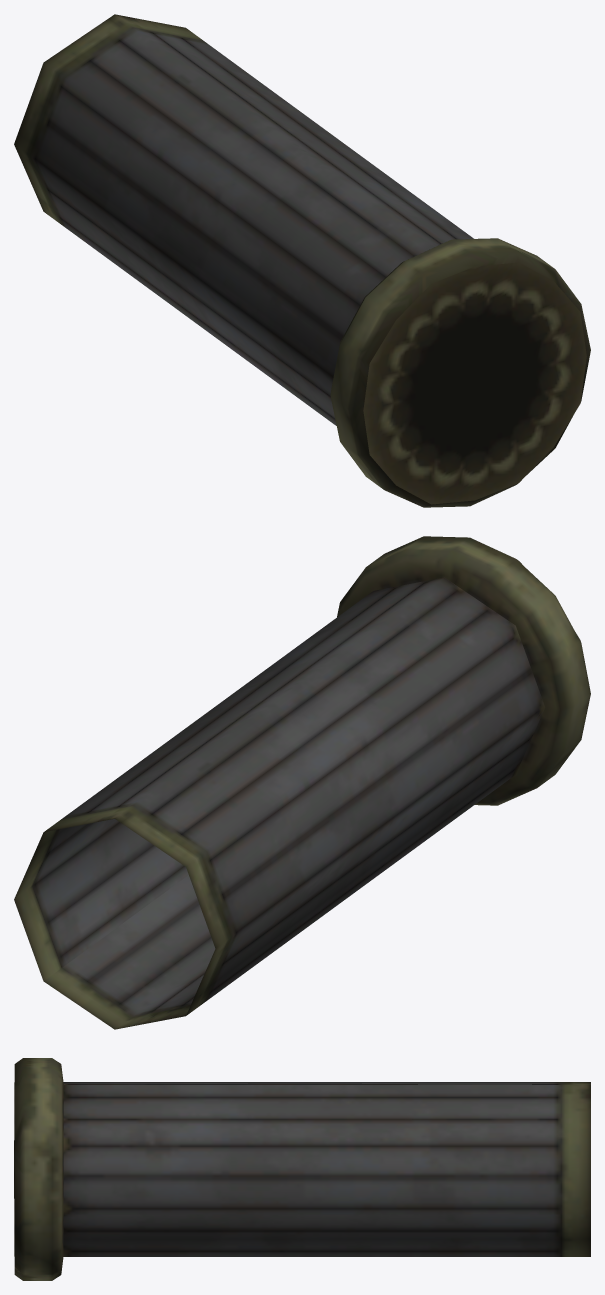
File: 02_07_data_stack_pipe.DAE
3 renders of one model, top to bottom at view 1: azimuth 30°, elevation 25°; view 2: azimuth 150°, elevation 25°; view 3: azimuth 270°, elevation 25°, orthographic. The views are drawn at different scales.
Visible parts, largest first — view 1: Object56; view 2: Object56; view 3: Object56.
Part boxes in pixels (x1,y1,x2,y2): Object56: (14, 14, 590, 507); Object56: (14, 536, 590, 1029); Object56: (14, 1058, 590, 1280).
Bounding box in the file's own units: 38.4 × 99.07 × 38.4.
